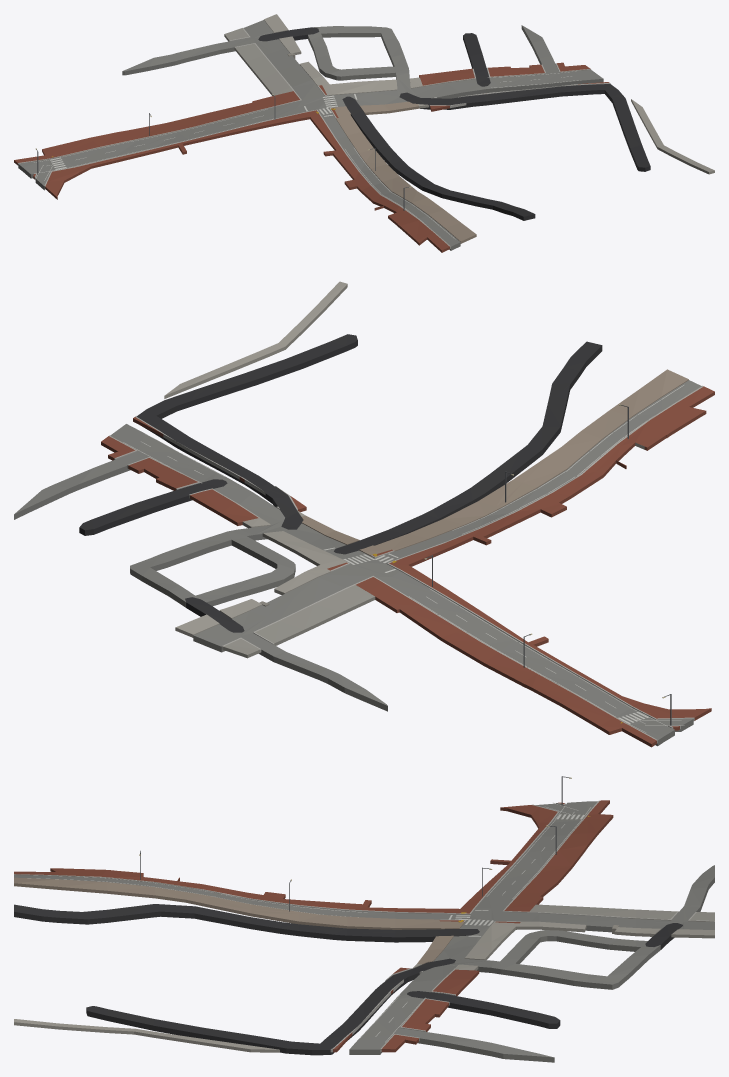
3 renders of one model, top to bottom at view 1: azimuth 30°, elevation 25°; view 2: azimuth 150°, elevation 25°; view 3: azimuth 270°, elevation 25°, orthographic. The views are drawn at different scales.
Bounding box in the file's own units: 147 × 19.4 × 146.
